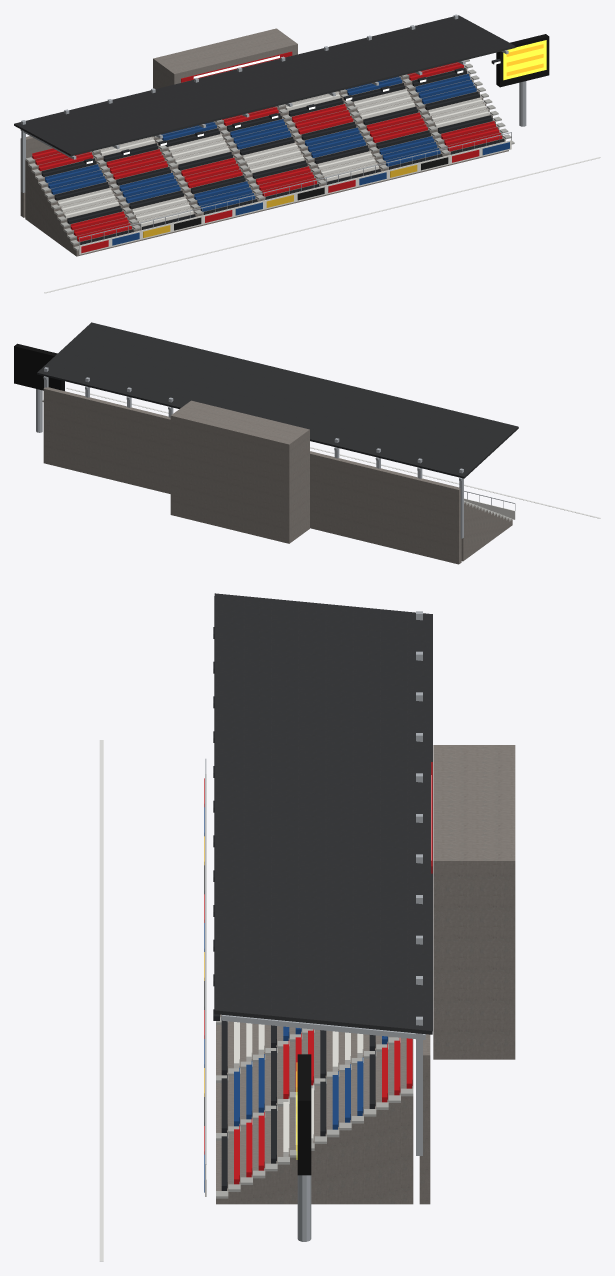
Rendered from OT_Grandstand.glb.
3 renders of one model, top to bottom at view 1: azimuth 30°, elevation 25°; view 2: azimuth 150°, elevation 25°; view 3: azimuth 270°, elevation 25°, orthographic. The views are drawn at different scales.
Visible parts, largest first — view 1: OT_Grandstand_RoofMetal, OT_Grandstand_Concrete, OT_Grandstand_Seatd0181e__d0181e, OT_Grandstand_Seat2a2c30__2a2c30, OT_Grandstand_Seat1f4e8c__1f4e8c, OT_Grandstand_Seatf0efe9__f0efe9, OT_Grandstand_Stair__b8b8b4, OT_Grandstand_Galv__b4b9bf, OT_Grandstand_Wall__f0efe9, OT_Grandstand_OTRed__d0181e, OT_Grandstand_PaintWhite__f0f0ee, OT_Grandstand_ScoreGlow__f6c22c (+6 smaller); view 2: OT_Grandstand_Concrete, OT_Grandstand_RoofMetal, OT_Grandstand_Scoreboard__121212, OT_Grandstand_Galv__b4b9bf, OT_Grandstand_PaintWhite__f0f0ee; view 3: OT_Grandstand_RoofMetal, OT_Grandstand_Concrete, OT_Grandstand_Galv__b4b9bf, OT_Grandstand_Stair__b8b8b4, OT_Grandstand_Seat2a2c30__2a2c30, OT_Grandstand_Seatd0181e__d0181e, OT_Grandstand_PaintWhite__f0f0ee, OT_Grandstand_Seat1f4e8c__1f4e8c, OT_Grandstand_Seatf0efe9__f0efe9, OT_Grandstand_Scoreboard__121212.
Boxes of the visible parts, x1,y1,x2,y2 form: OT_Grandstand_RoofMetal: (14,15,515,156); OT_Grandstand_Concrete: (20,28,508,256); OT_Grandstand_Seatd0181e__d0181e: (32,62,502,241); OT_Grandstand_Seat2a2c30__2a2c30: (41,68,504,244); OT_Grandstand_Seat1f4e8c__1f4e8c: (45,74,476,211); OT_Grandstand_Seatf0efe9__f0efe9: (58,89,489,226); OT_Grandstand_Stair__b8b8b4: (25,59,514,250); OT_Grandstand_Galv__b4b9bf: (20,14,526,245); OT_Grandstand_Wall__f0efe9: (79,140,511,254); OT_Grandstand_OTRed__d0181e: (81,51,479,253); OT_Grandstand_PaintWhite__f0f0ee: (44,157,600,293); OT_Grandstand_ScoreGlow__f6c22c: (503,40,546,80); OT_Grandstand_Concrete: (43,387,512,564); OT_Grandstand_RoofMetal: (37,322,518,478); OT_Grandstand_Scoreboard__121212: (14,343,64,390); OT_Grandstand_Galv__b4b9bf: (36,367,515,538); OT_Grandstand_PaintWhite__f0f0ee: (66,387,600,518); OT_Grandstand_RoofMetal: (214,593,432,1034); OT_Grandstand_Concrete: (216,745,515,1204); OT_Grandstand_Galv__b4b9bf: (205,611,425,1241); OT_Grandstand_Stair__b8b8b4: (216,1017,413,1198); OT_Grandstand_Seat2a2c30__2a2c30: (221,1020,375,1190); OT_Grandstand_Seatd0181e__d0181e: (234,1029,412,1184); OT_Grandstand_PaintWhite__f0f0ee: (99,740,103,1261); OT_Grandstand_Seat1f4e8c__1f4e8c: (234,1026,387,1129); OT_Grandstand_Seatf0efe9__f0efe9: (234,1022,363,1156); OT_Grandstand_Scoreboard__121212: (297,1054,311,1175).
Size of the model in its own units: 90 by 16.09 by 30.35.
21 materials, 2 textured.
